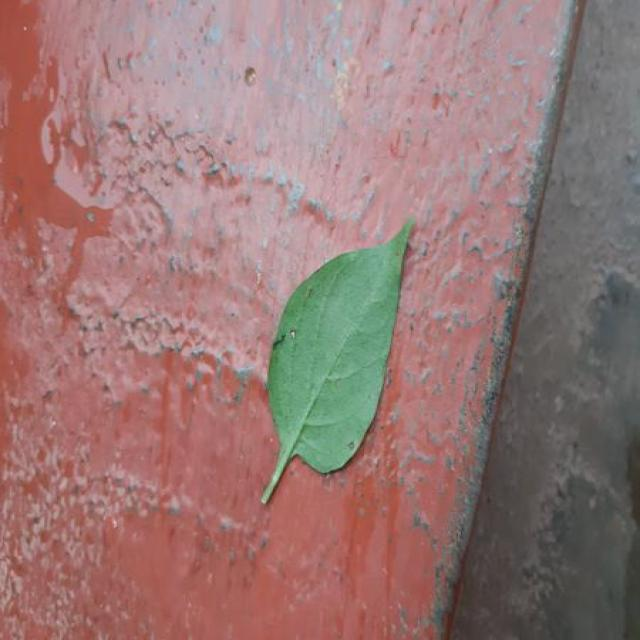chilly: (262, 220, 412, 503)
